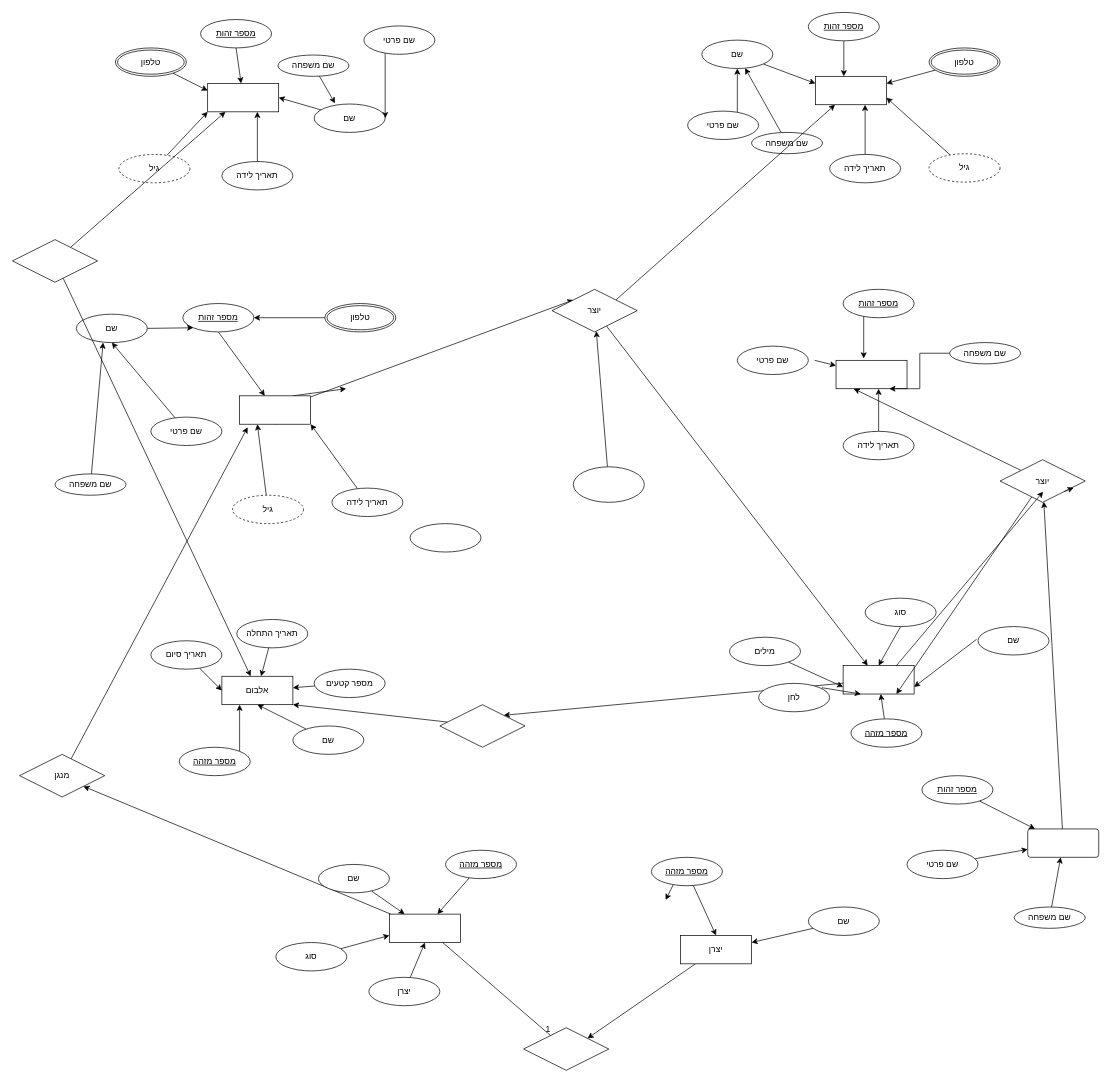
Some shapes in this 1111 by 1083 pixel diagram are drawn without their labels. Here are the shapes that lost their labels. From the top down, the centre of each, then its label:
the point at 243,97: מפיק
the point at 850,90: טכנאי
the point at 55,260: הפקה
the point at 871,374: משורר
the point at 275,409: מוסיקאי
the point at 608,484: תאריך
the point at 445,537: Attribute
the point at 878,679: קטע מוסיקלי
the point at 482,725: מכיל
the point at 1063,842: מלחין
the point at 424,928: כלי נגינה
the point at 566,1048: מיוצר
